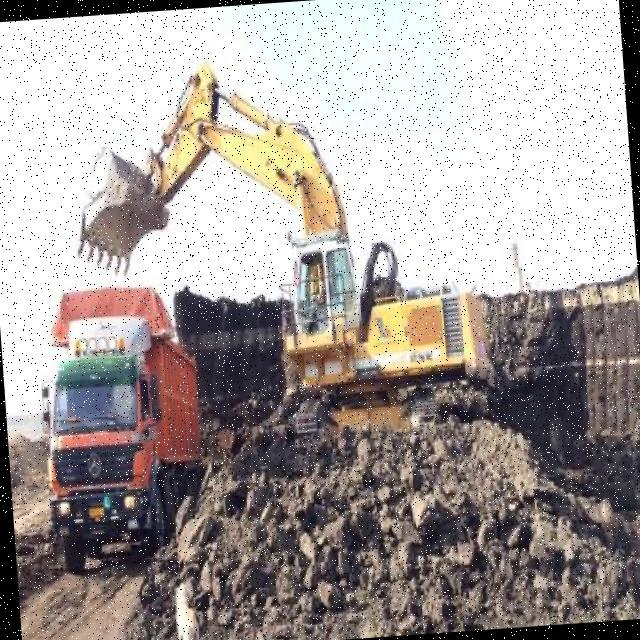Dump Truck: (32, 279, 208, 575)
Excavator: (64, 36, 498, 456)
